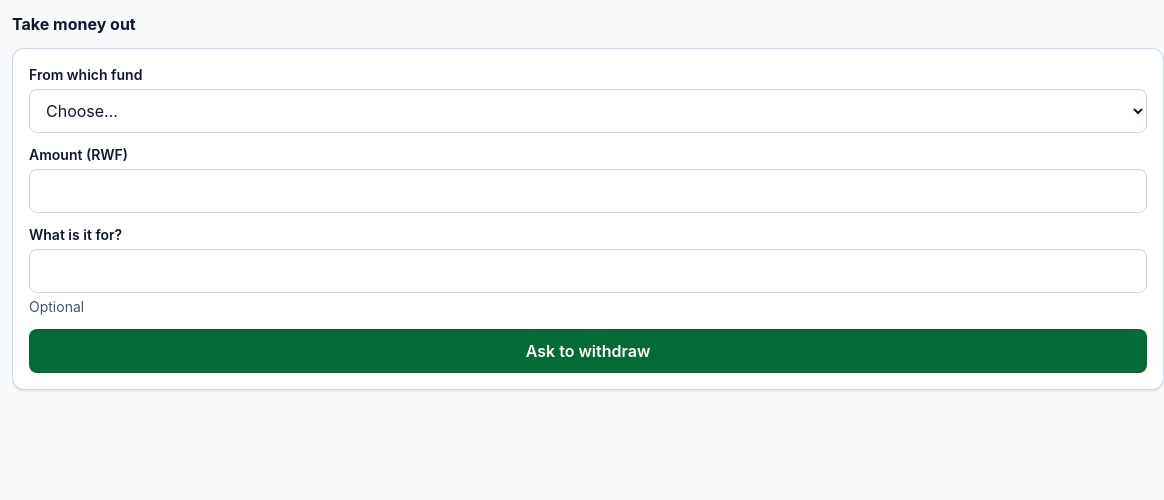
withdrawals › lets a member ask and shows every reason the group refuses
Select "Ubwizigame (15,000 RWF)" in the dropdown labelled "From which fund" at (588, 111), box [29, 89, 1147, 133]
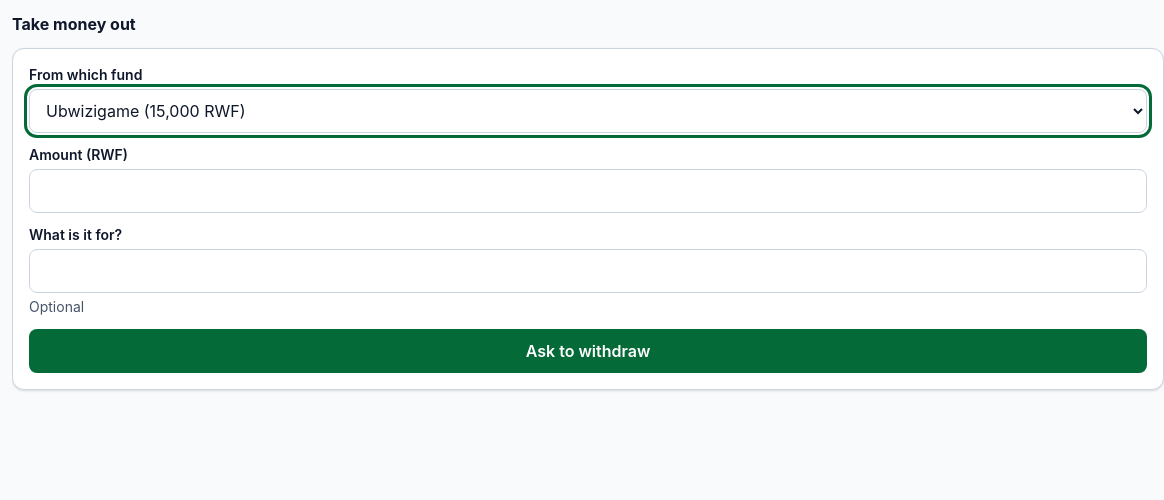
Type "20,000" into the field labelled "Amount (RWF)" at (588, 191), box [29, 169, 1147, 213]
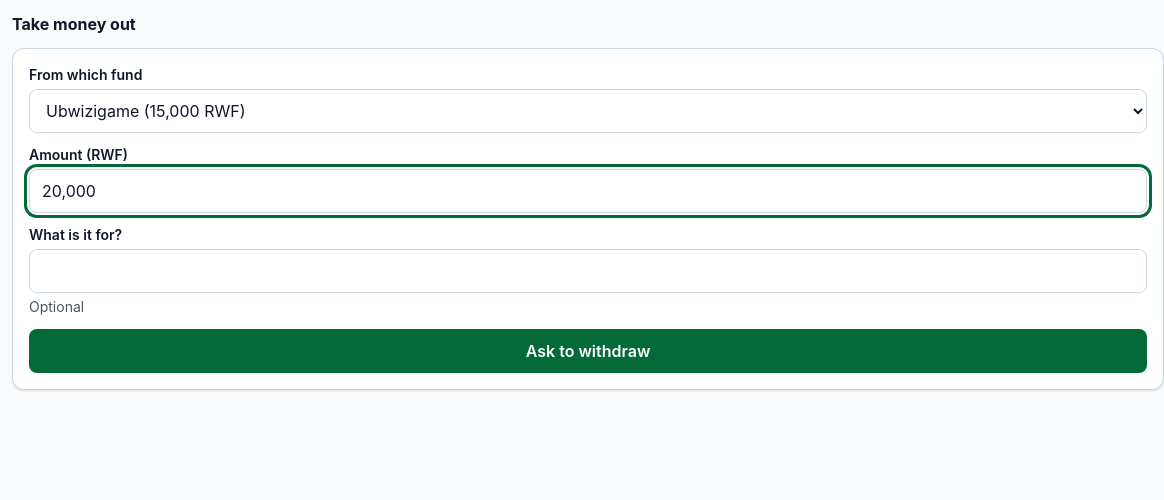
Click the button "Ask to withdraw" at (588, 351), box [29, 329, 1147, 373]
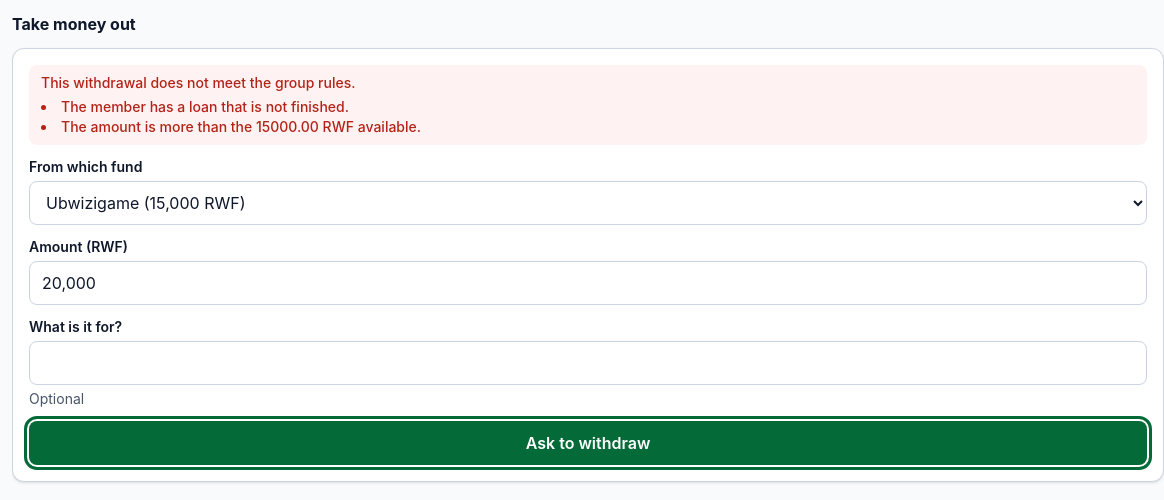
Expected: the message shows "The member has a loan that is not finished.", [61, 98, 349, 115]
Expected: the message shows "15000.00 RWF available", [61, 118, 421, 135]
